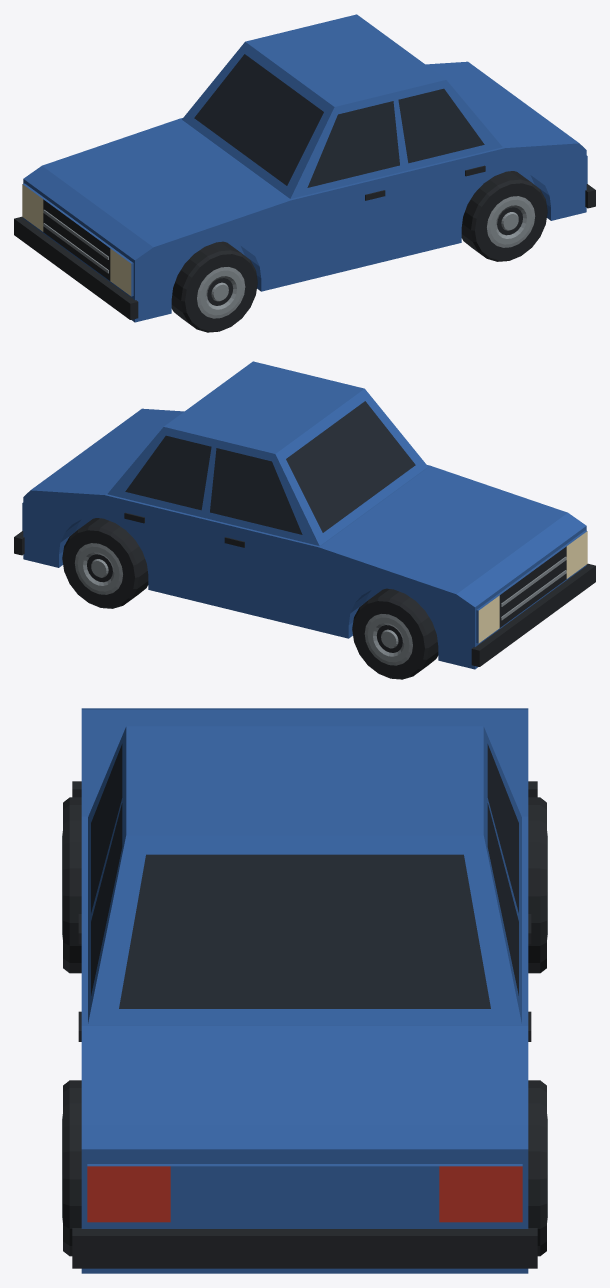
The model's file is small_car_901.glb.
The picture shows the model from 3 angles, top to bottom: view 1: azimuth 30°, elevation 25°; view 2: azimuth 150°, elevation 25°; view 3: azimuth 270°, elevation 25°; orthographic projection. The views are drawn at different scales.
Parts seen in each view (by area): view 1: Body, Wheel 0 -1, Wheel 1 -1, Bumper; view 2: Body, Wheel 0 1, Wheel 1 1, Bumper; view 3: Body, Bumper.001, Wheel 0 -1, Wheel 0 1, Wheel 1 -1, Wheel 1 1.
Part boxes in pixels (left/top/right/bottom): Body: left=22, top=14, right=587, bottom=322; Wheel 0 -1: left=171, top=241, right=257, bottom=332; Wheel 1 -1: left=461, top=171, right=547, bottom=261; Bumper: left=14, top=216, right=138, bottom=319; Body: left=22, top=361, right=587, bottom=669; Wheel 0 1: left=352, top=588, right=438, bottom=679; Wheel 1 1: left=62, top=518, right=148, bottom=608; Bumper: left=471, top=563, right=595, bottom=666; Body: left=81, top=708, right=528, bottom=1273; Bumper.001: left=72, top=1228, right=537, bottom=1268; Wheel 0 -1: left=62, top=797, right=81, bottom=973; Wheel 0 1: left=528, top=797, right=547, bottom=973; Wheel 1 -1: left=62, top=1080, right=81, bottom=1256; Wheel 1 1: left=528, top=1080, right=547, bottom=1256.
Bounding box in the file's own units: 4 × 1.5 × 1.81.
